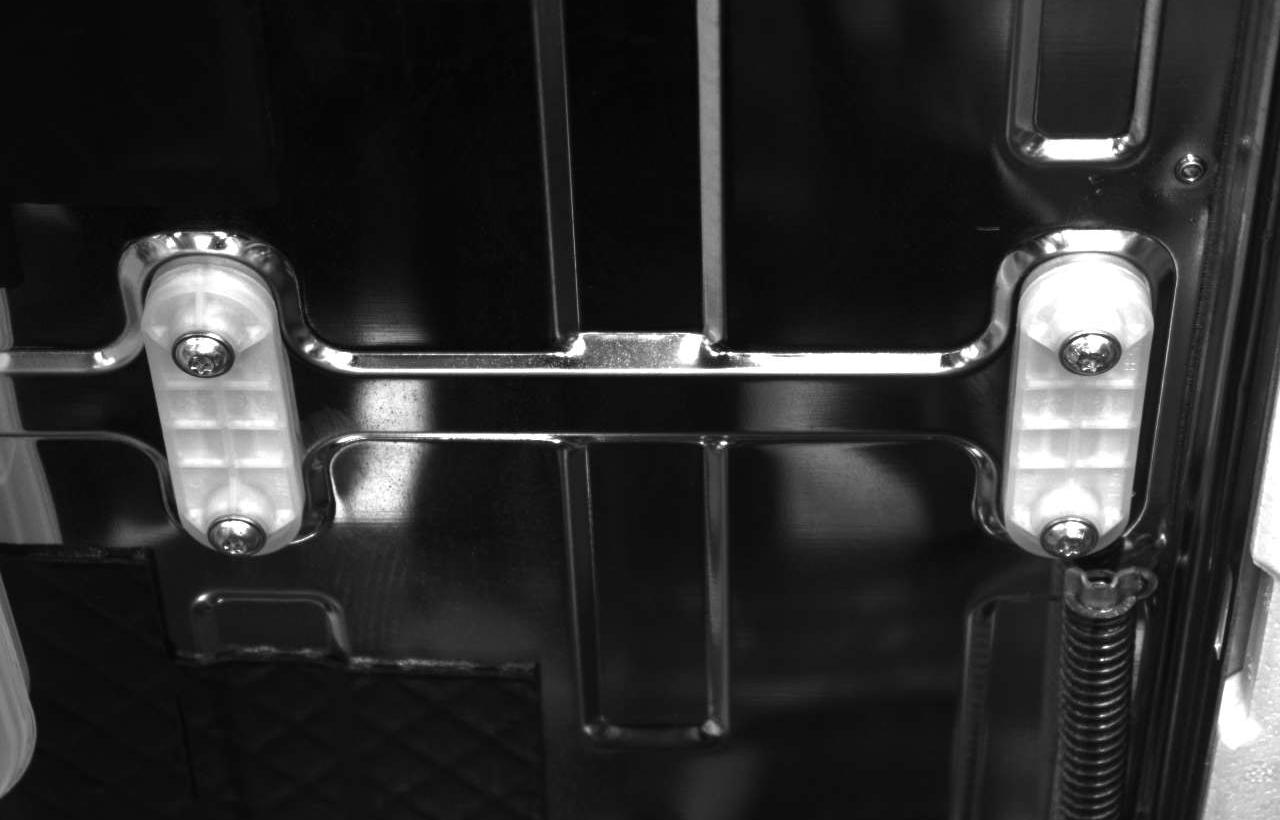vida-ok: (167, 325, 239, 392), (1056, 321, 1123, 388), (203, 502, 269, 561), (1036, 507, 1101, 565)
